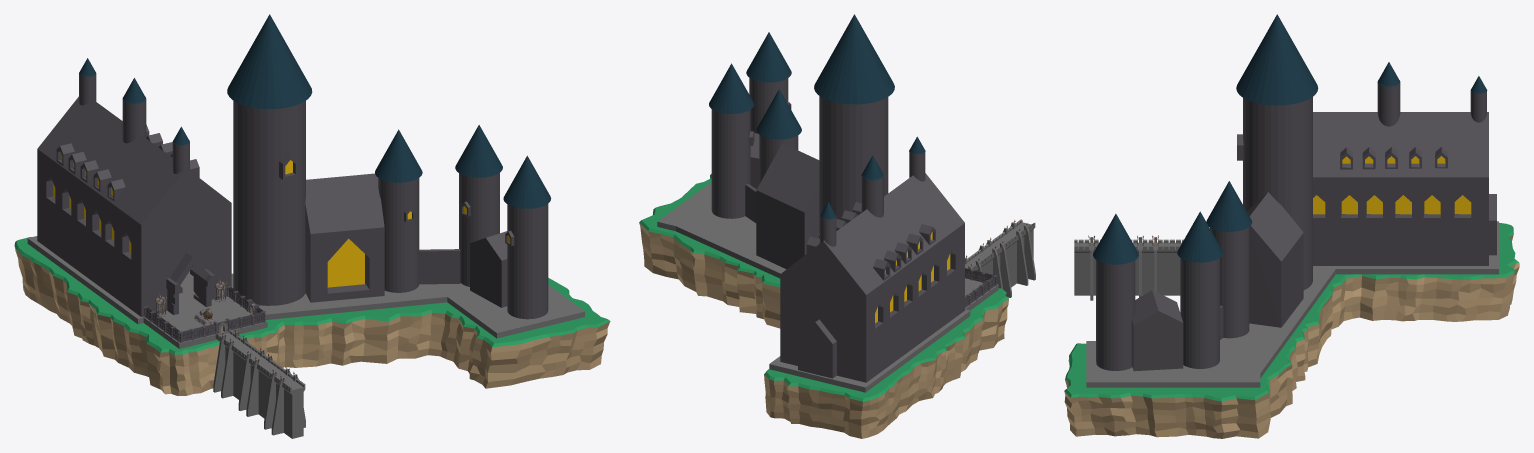
File: LevelFourthDraftA1000.glb
The picture shows the model from 3 angles, left to right: view 1: azimuth 30°, elevation 25°; view 2: azimuth 150°, elevation 25°; view 3: azimuth 270°, elevation 25°; orthographic projection. The views are drawn at different scales.
Parts seen in each view (by area): view 1: Castle, Cliff, Bridge, Castle.003, Floor.001, Floor.003, Floor.004, Floor.005, Castle.007, Castle.005, Castle.006, LightWindow.010; view 2: Castle, Cliff, Castle.003, Bridge, Floor.001, Floor.005, Castle.007, Castle.005, Castle.006, Floor.003, Floor.004; view 3: Castle, Cliff, Castle.003, Bridge, Floor.001, Floor.003, Floor.005, Castle.006, Castle.007, Castle.005.
Part boxes in pixels (<box>): Castle: <box>37,72,548,319</box>; Cliff: <box>14,237,610,395</box>; Bridge: <box>213,329,305,438</box>; Castle.003: <box>227,14,312,109</box>; Floor.001: <box>226,273,475,319</box>; Floor.003: <box>447,285,584,338</box>; Floor.004: <box>143,297,267,348</box>; Floor.005: <box>27,236,197,324</box>; Castle.007: <box>503,155,550,208</box>; Castle.005: <box>375,129,422,182</box>; Castle.006: <box>455,125,502,177</box>; LightWindow.010: <box>327,238,364,287</box>; Castle: <box>711,78,964,382</box>; Cliff: <box>639,174,1008,438</box>; Castle.003: <box>814,14,894,104</box>; Bridge: <box>965,219,1035,297</box>; Floor.001: <box>672,209,786,278</box>; Floor.005: <box>769,309,970,392</box>; Castle.007: <box>746,32,791,82</box>; Castle.005: <box>756,89,801,139</box>; Castle.006: <box>709,63,754,113</box>; Floor.003: <box>657,182,711,231</box>; Floor.004: <box>965,278,998,310</box>; Castle: <box>1096,81,1496,371</box>; Cliff: <box>1064,222,1519,438</box>; Castle.003: <box>1236,14,1318,105</box>; Bridge: <box>1074,237,1183,300</box>; Floor.001: <box>1183,266,1335,377</box>; Floor.003: <box>1086,341,1260,387</box>; Floor.005: <box>1313,221,1498,274</box>; Castle.006: <box>1177,211,1222,262</box>; Castle.007: <box>1093,214,1138,264</box>; Castle.005: <box>1206,181,1252,231</box>.
Bounding box in the file's own units: 353 × 288 × 376.
11 materials, 1 textured.
